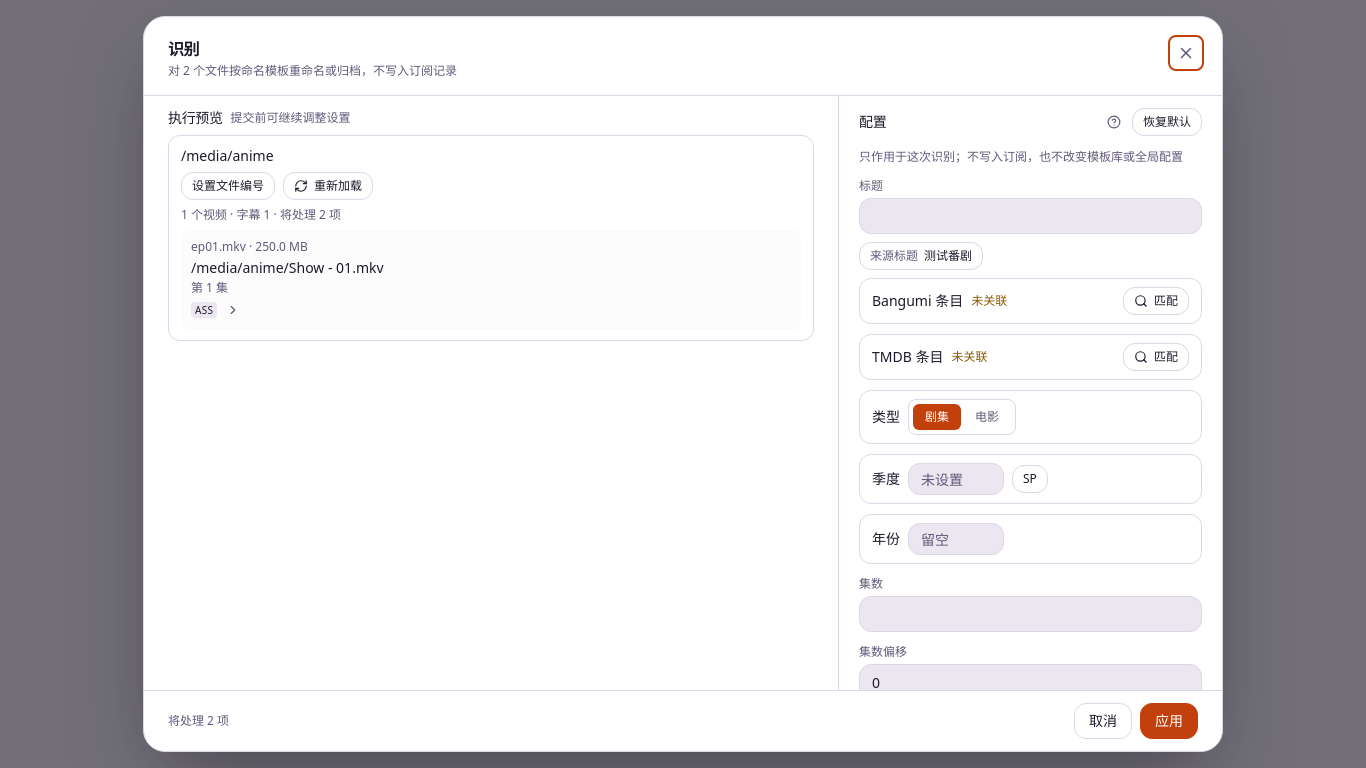
Test case: RecognitionDialog › names with the typed title draft and offers the parser's candidate as a badge
The width and height of the screenshot is (1366, 768).
Expected: the text "/media/anime/Show - 01.mkv" is shown, [191, 258, 384, 277]
Step 1. Click the button "来源标题 测试番剧" → click(921, 256), box [859, 242, 983, 270]
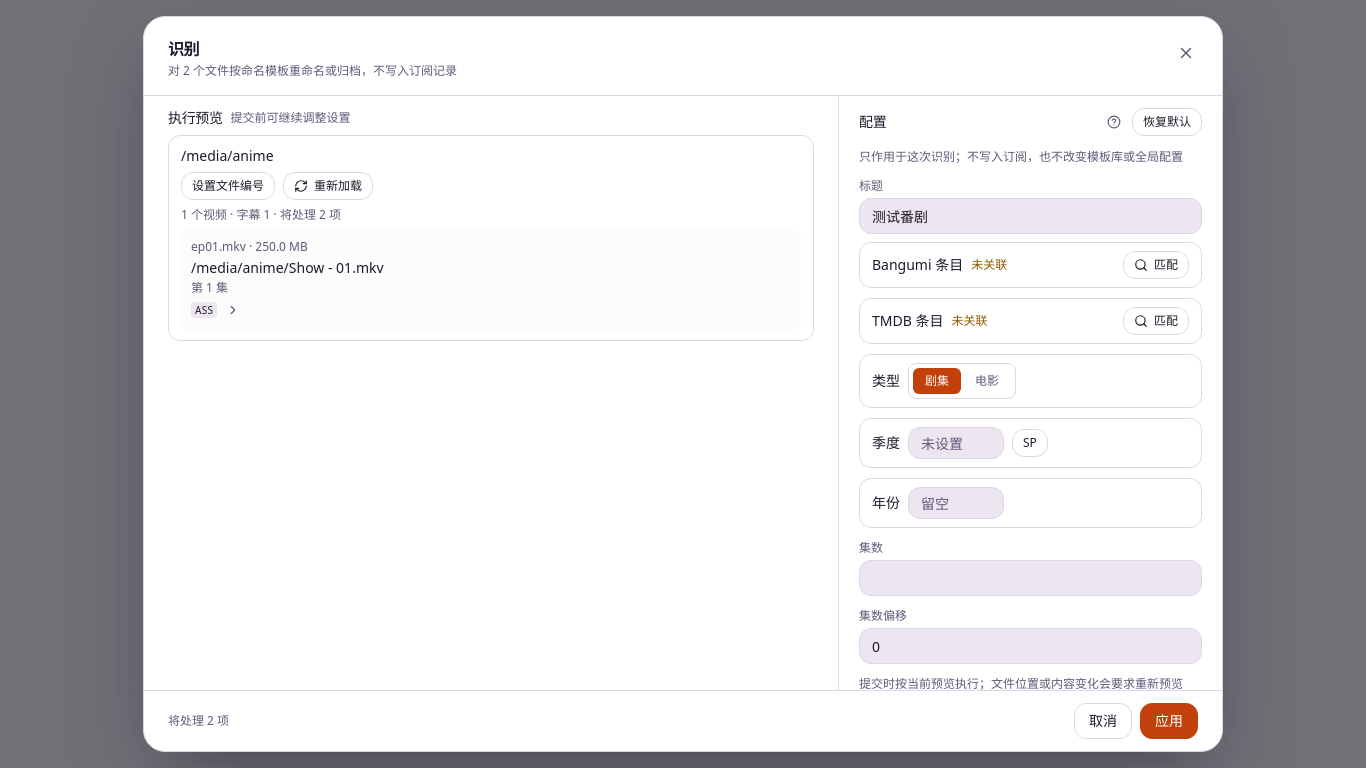
Expected: the field labelled "标题" holds "测试番剧", [859, 198, 1202, 234]
